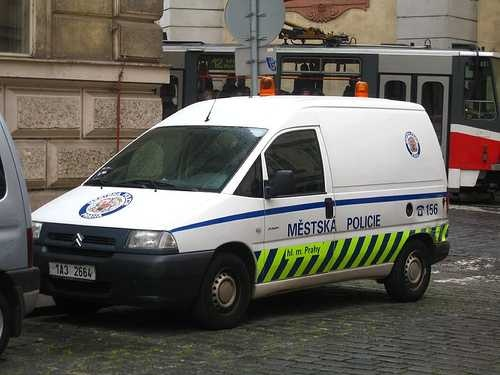Police Car: (23, 91, 460, 314)
